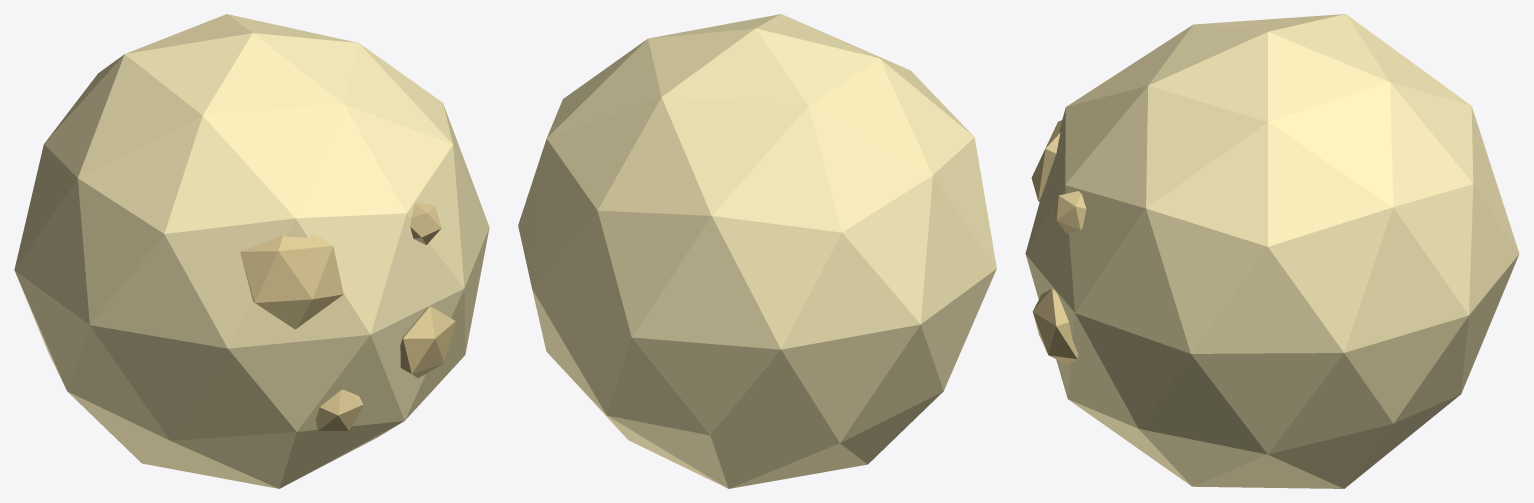
File: moon.glb
3 renders of one model, left to right at view 1: azimuth 30°, elevation 25°; view 2: azimuth 150°, elevation 25°; view 3: azimuth 270°, elevation 25°, orthographic. The views are drawn at different scales.
Parts seen in each view (by area): view 1: Moon.001; view 2: Moon.001; view 3: Moon.001.
Boxes of the visible parts, x1=… form: Moon.001: x1=14, y1=14, x2=489, y2=488; Moon.001: x1=518, y1=14, x2=996, y2=488; Moon.001: x1=1025, y1=14, x2=1519, y2=488.
Size of the model in its own units: 1.94 by 1.98 by 2.01.
